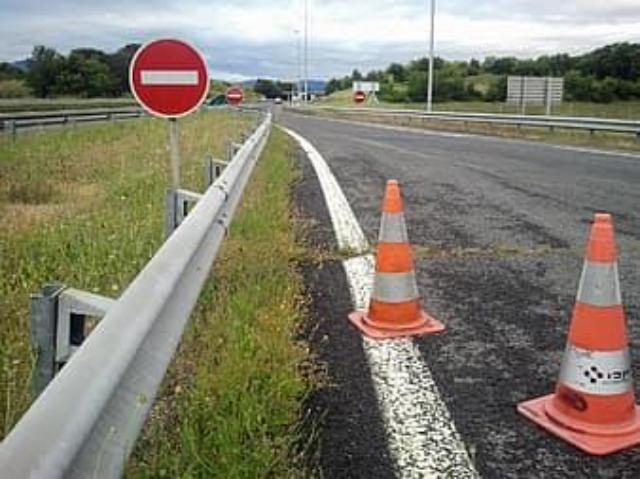B2: (126, 34, 210, 120)
